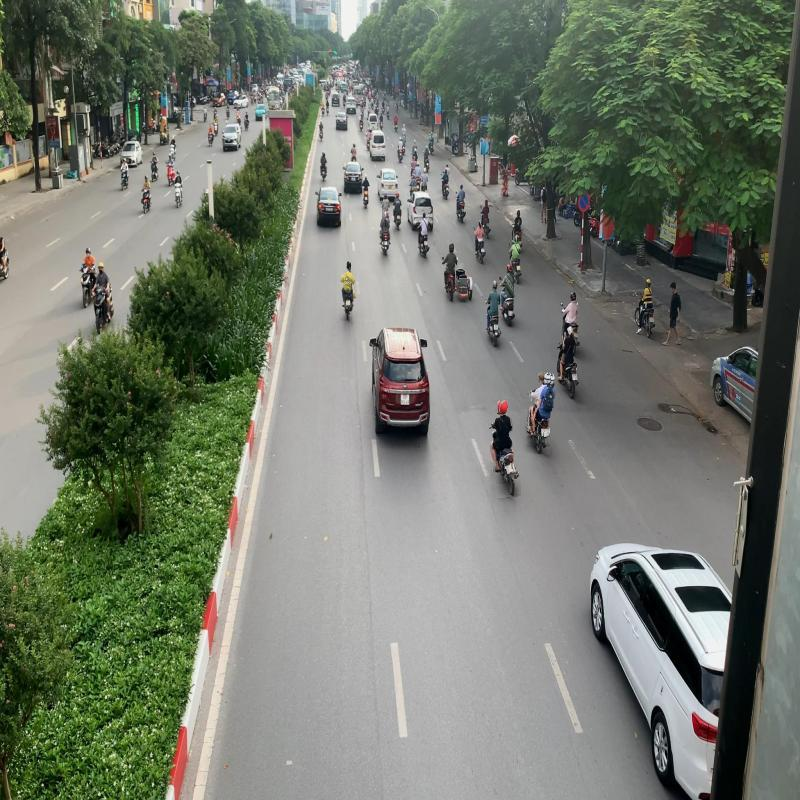helmet: (500, 400, 508, 414), (544, 371, 551, 385)
licenseplate: (505, 464, 514, 474), (543, 428, 550, 436), (346, 300, 350, 306)
motorcyclist: (488, 399, 519, 498), (524, 370, 556, 455), (340, 260, 356, 321)
nohelmet: (538, 372, 544, 382), (346, 260, 350, 269)
